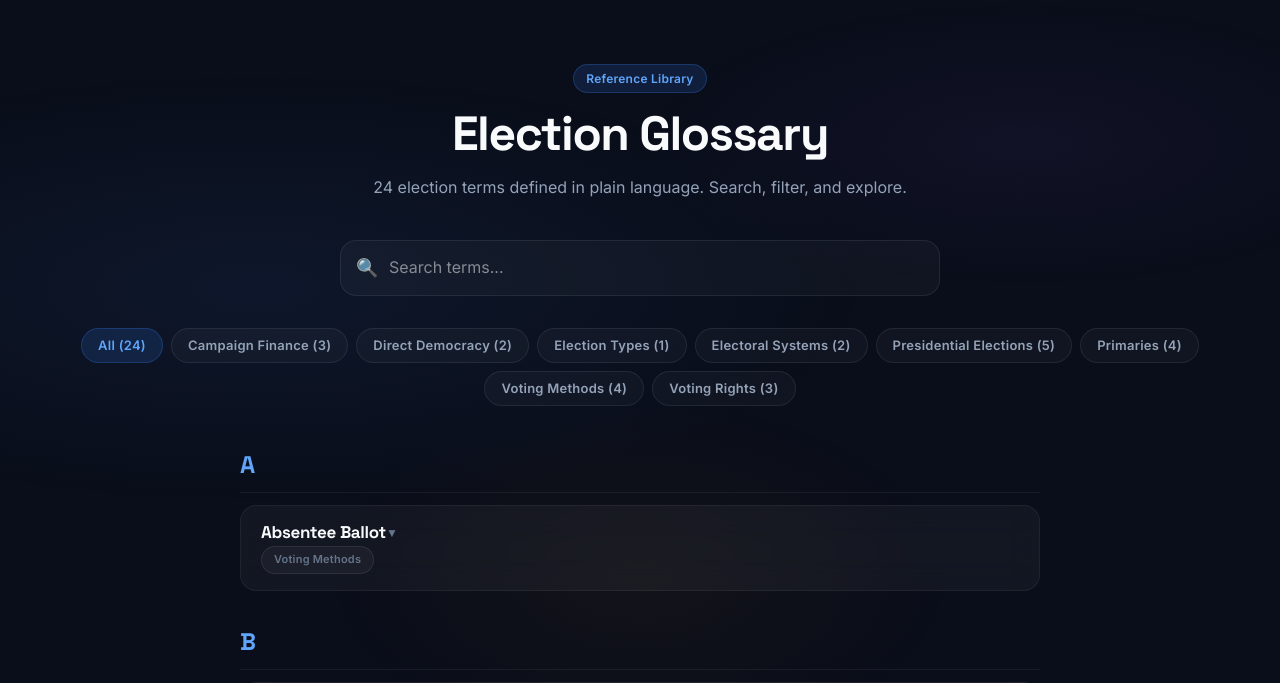
it: Glossary Page › expands a term when clicked
Expected: the text "A ballot cast by mail or in person" is not shown
Click the button "Absentee Ballot ▼ Voting Methods". click: (323, 532)
box: [240, 505, 1040, 591]
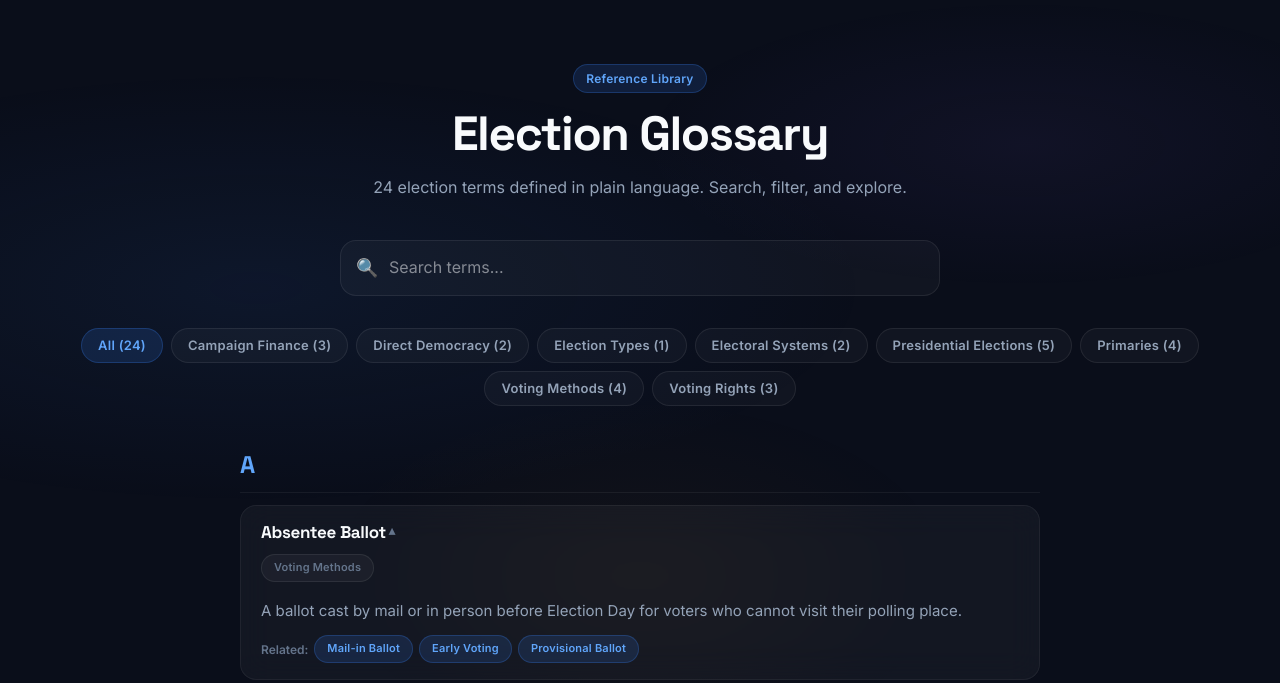
Expected: the text "A ballot cast by mail or in person" is shown, [261, 601, 962, 620]
Expected: the button "Absentee Ballot" is expanded
Note: Close it
Click the button "Absentee Ballot". click: (323, 532)
box: [240, 505, 1040, 680]
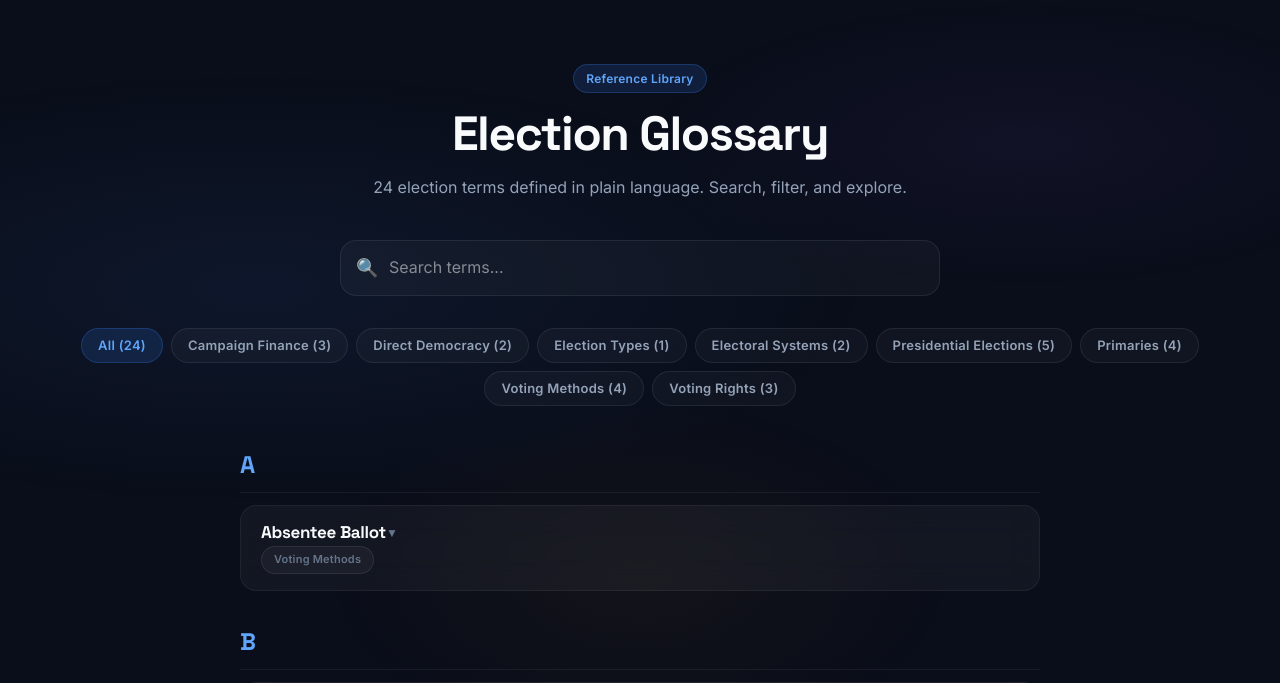
Expected: the text "A ballot cast by mail or in person" is gone
